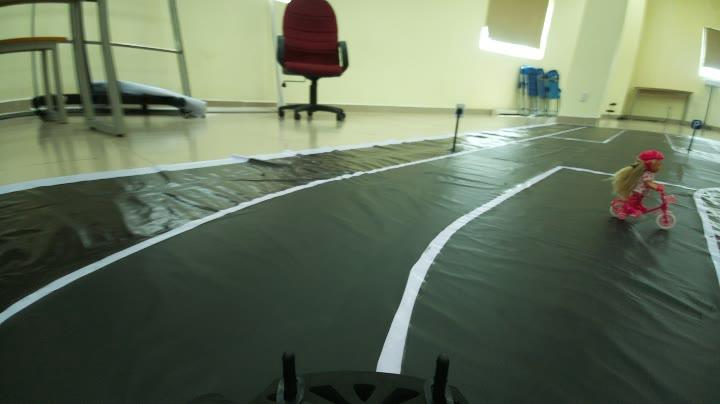pedestrian: (610, 139, 682, 234)
